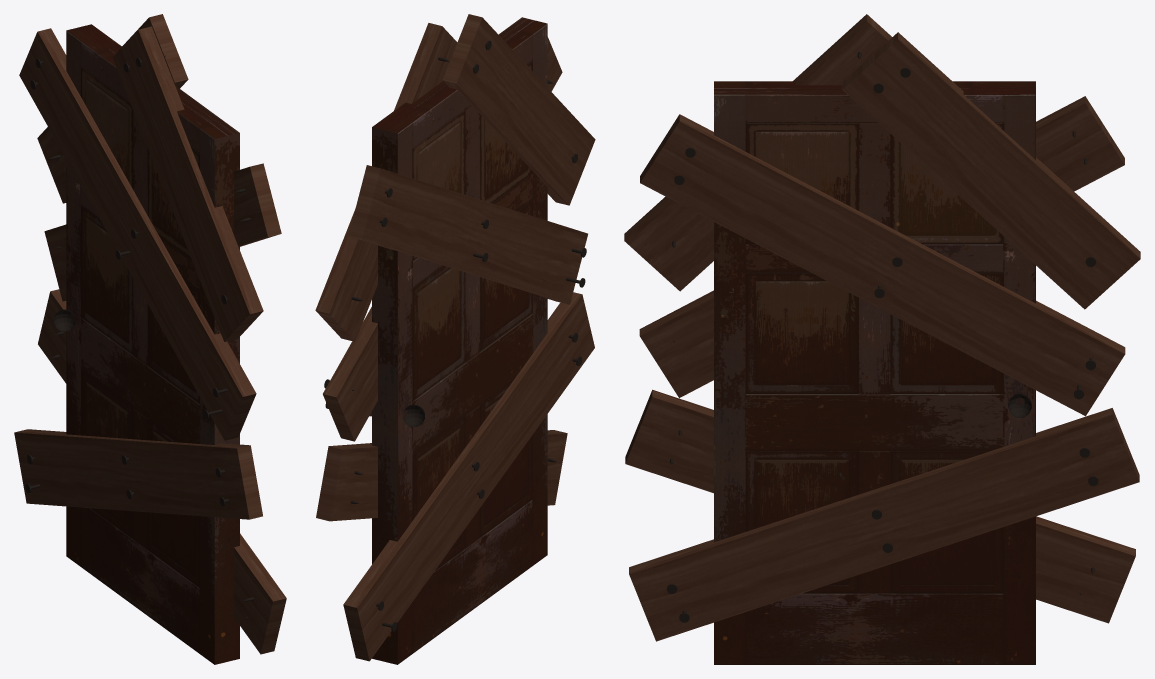
File: door_barricaded_m1.fbx
3 views of the same model, side by side, from view 1: azimuth 30°, elevation 25°; view 2: azimuth 150°, elevation 25°; view 3: azimuth 270°, elevation 25° (orthographic). The views are drawn at different scales.
Visible parts, largest first — view 1: DoorBarricaded; view 2: DoorBarricaded; view 3: DoorBarricaded.
Boxes of the visible parts, x1=… form: DoorBarricaded: x1=14, y1=14, x2=286, y2=664; DoorBarricaded: x1=315, y1=14, x2=595, y2=664; DoorBarricaded: x1=624, y1=14, x2=1140, y2=664.
Size of the model in its own units: 3.01 by 0.5175 by 4.08.
